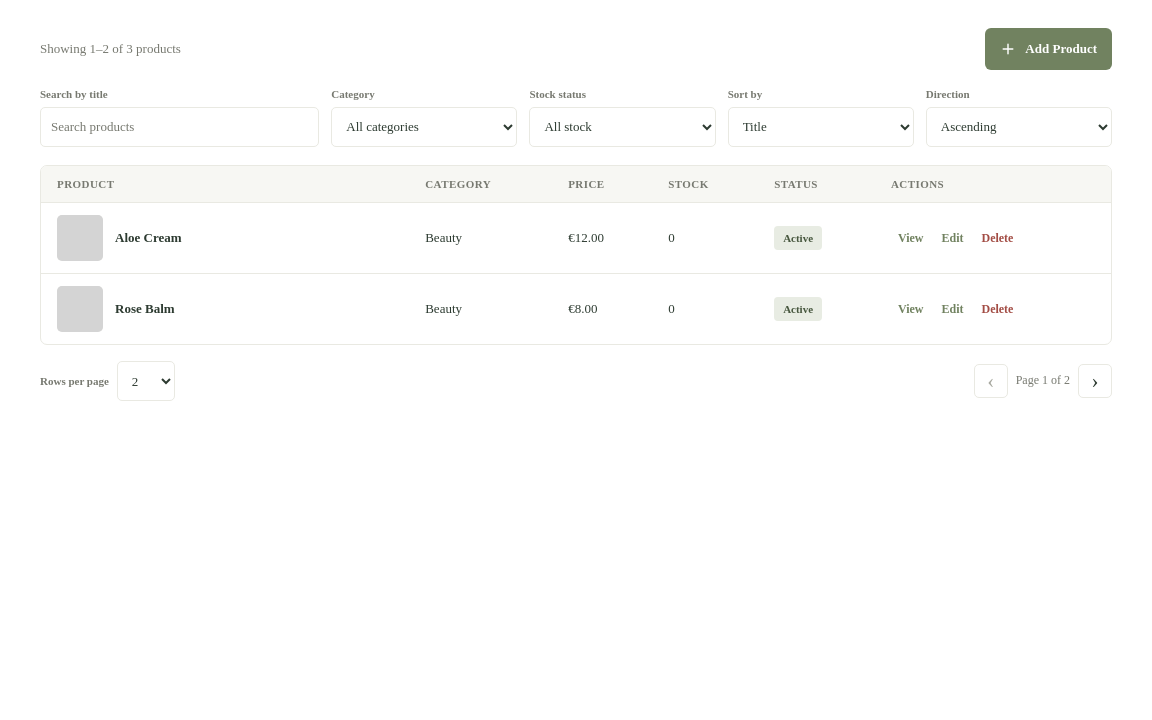
it: Products workflows › validates and submits an edited product form
Expected: the text "Aloe Cream" is shown, [115, 229, 182, 247]
Click the button with aria-label "Edit Aloe Cream" at (952, 238), box [934, 222, 970, 254]
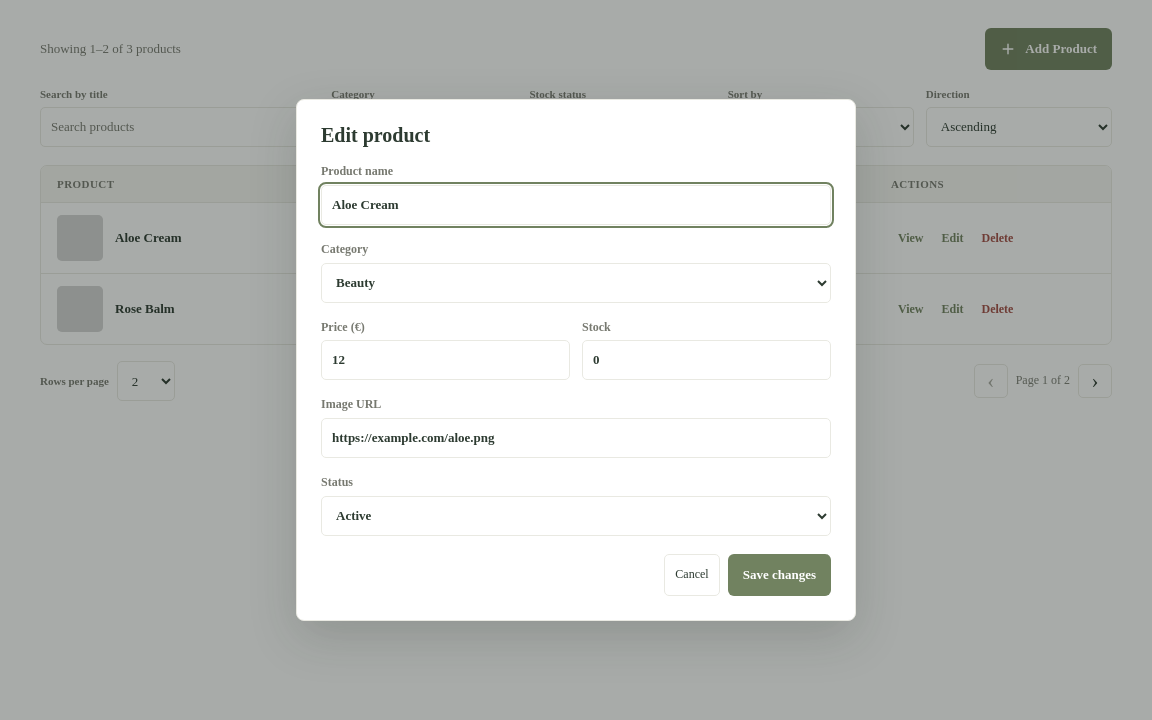
Clear the field labelled "Product name" at (576, 205), box [321, 185, 831, 225]
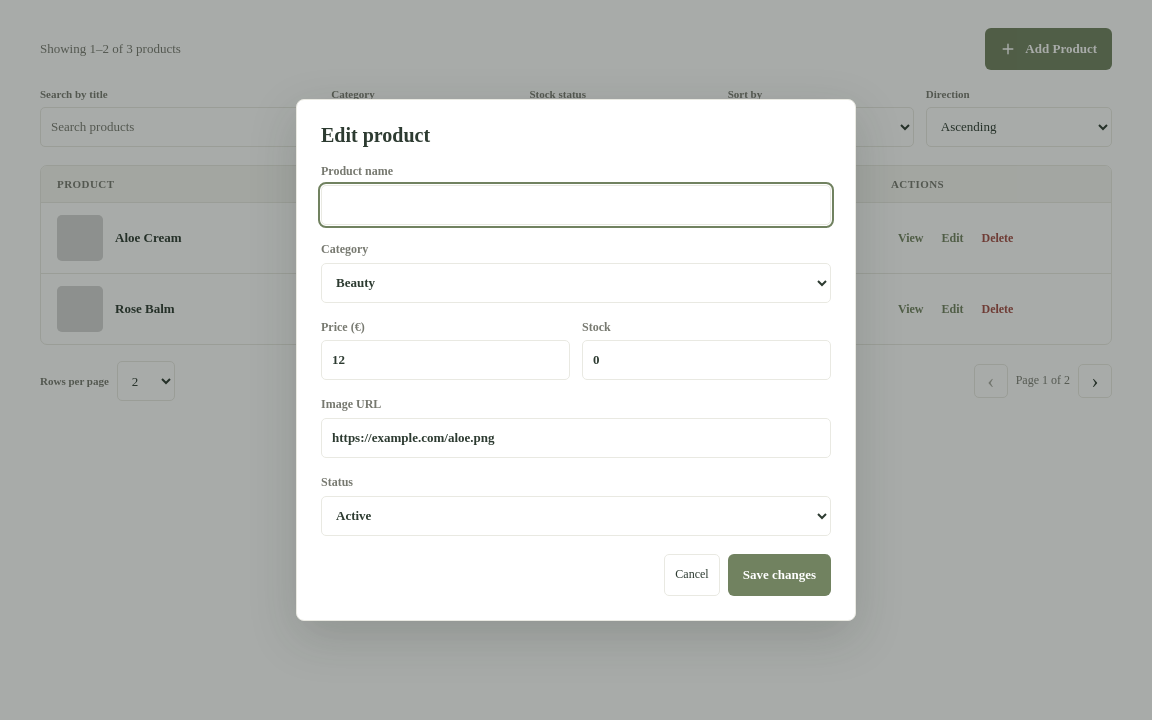
Click the button "Save changes" at (779, 575), box [728, 554, 831, 596]
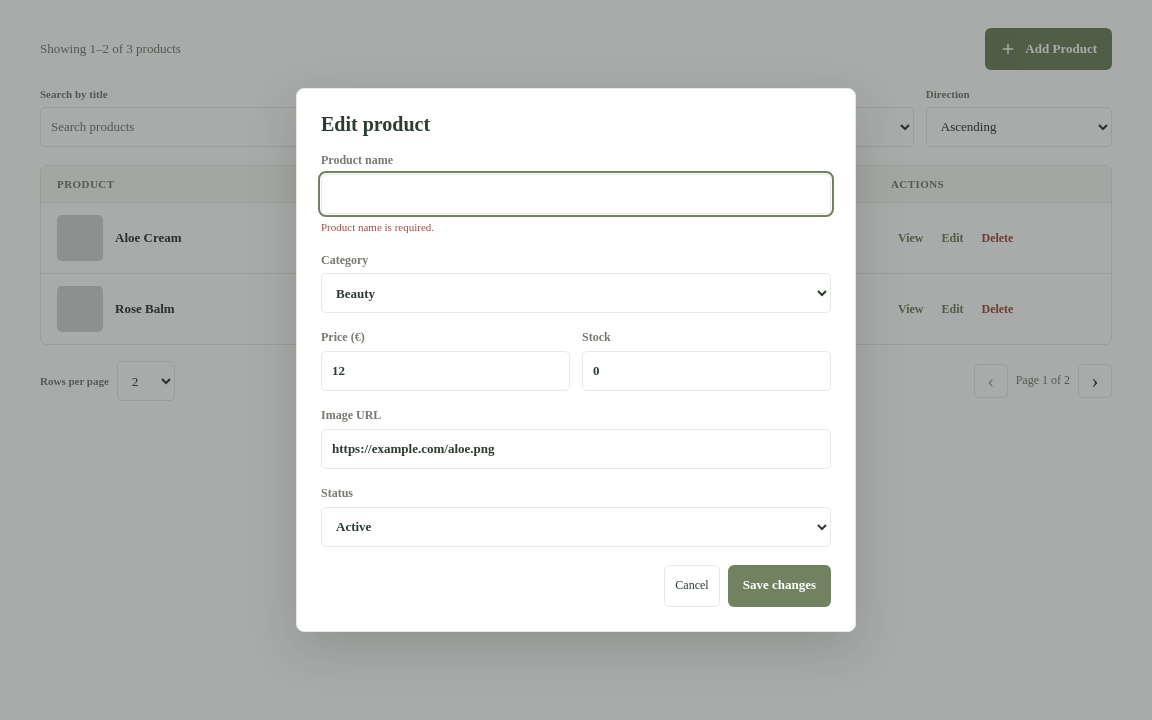
Expected: the text "Product name is required." is shown, [321, 221, 434, 233]
Type "Aloe Cream Plus" into the field labelled "Product name" at (576, 194), box [321, 174, 831, 214]
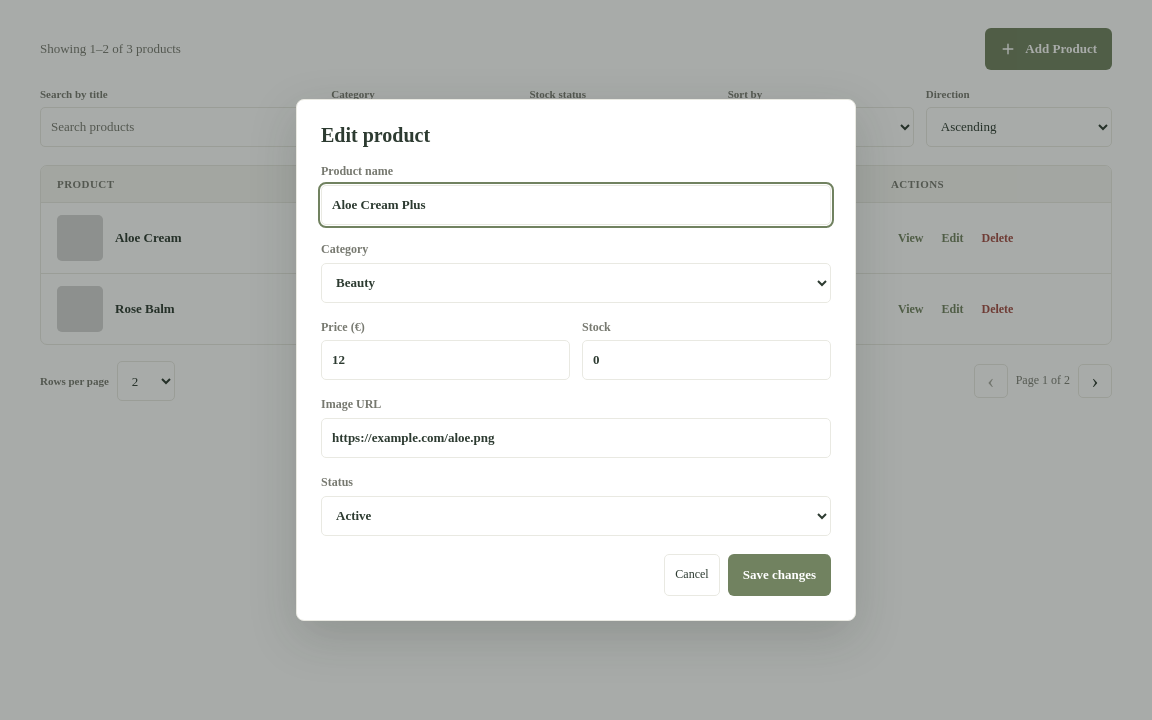
Click the button "Save changes" at (779, 575), box [728, 554, 831, 596]
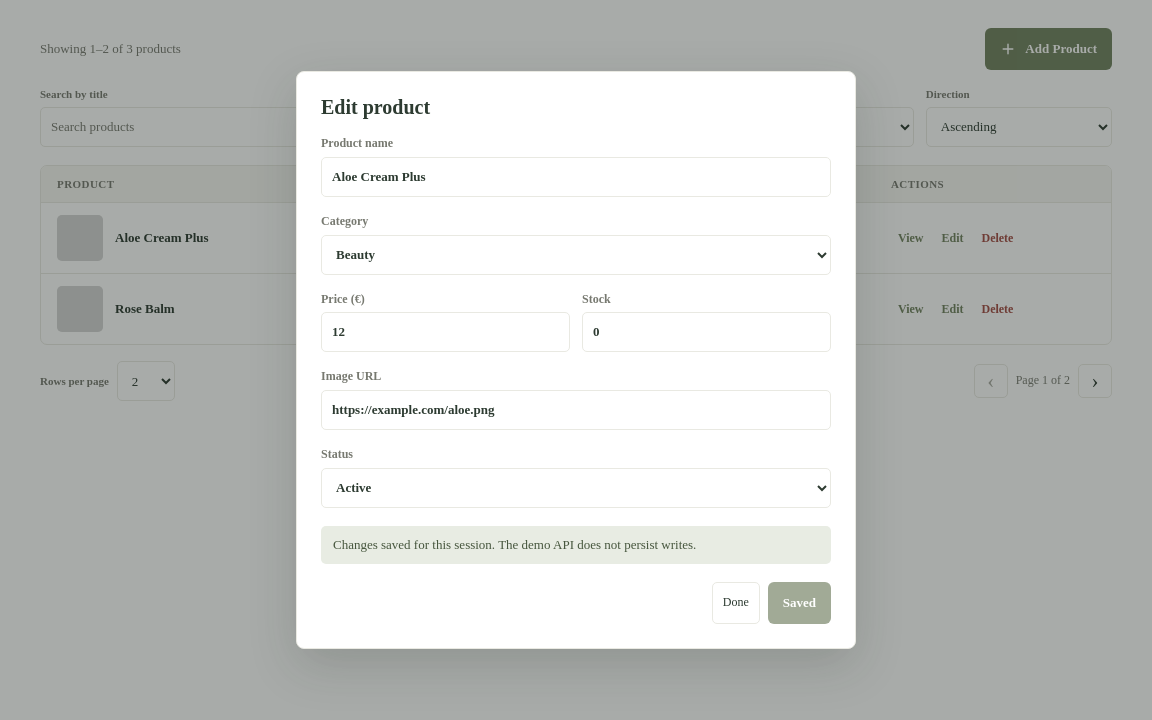
Expected: the message shows "Changes saved for this session.", [333, 537, 696, 552]
